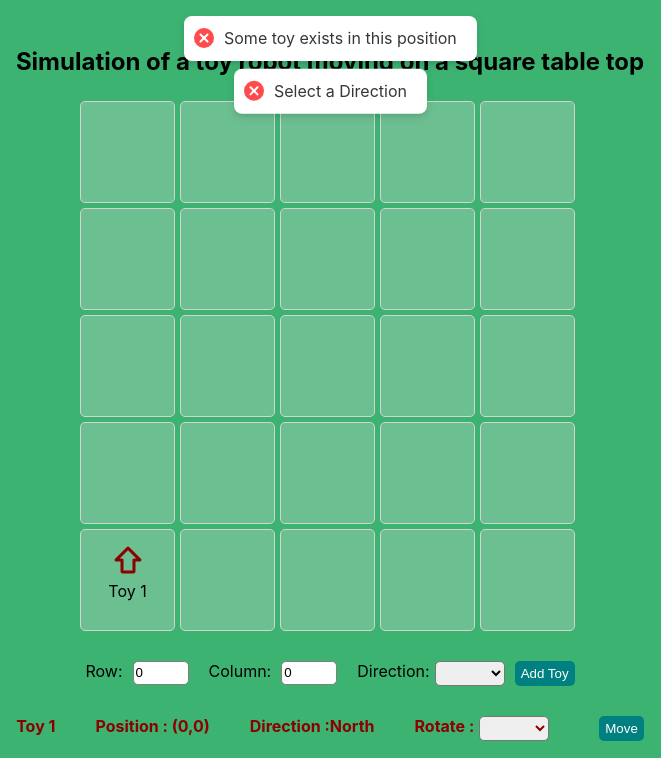
Test: Simulation of toy over square table top › renders toy rotation and movement correctly
The image size is (661, 758).
Select "Right" in the dropdown with test id "select-rotate" at (514, 728), box [479, 716, 549, 741]
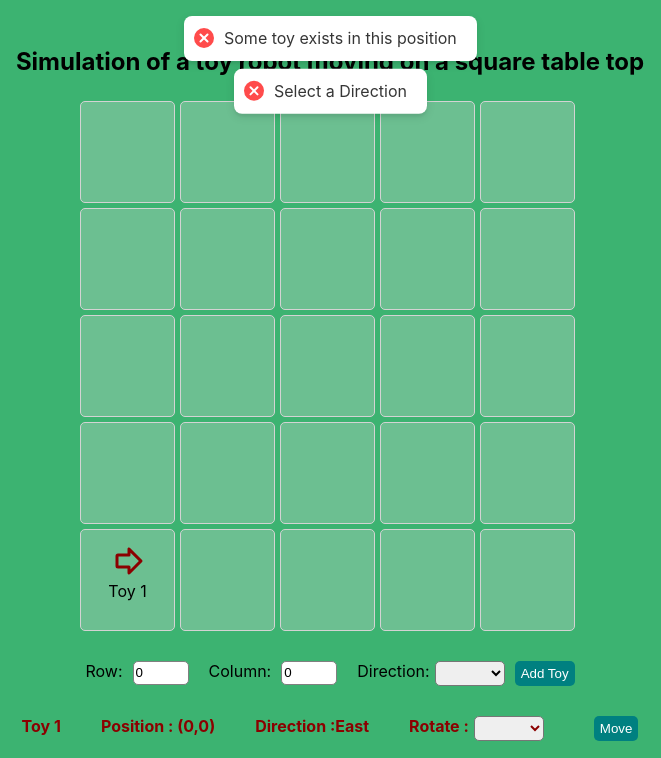
Check: the element with test id "tile-toy1-00-east" is shown, box [108, 545, 147, 601]
Click the button "Move" at (616, 728), box [594, 716, 638, 741]
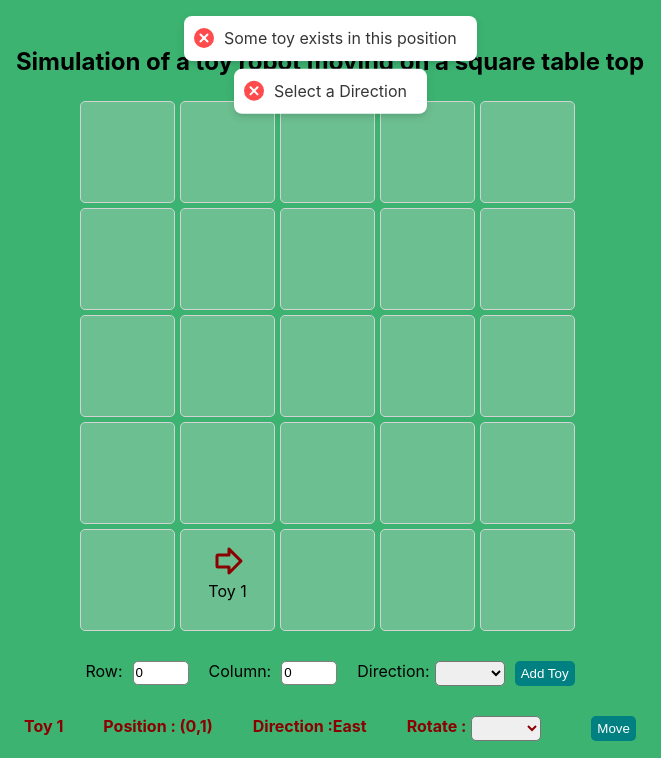
Check: the element with test id "tile-toy1-01-east" is shown, box [208, 545, 247, 601]
